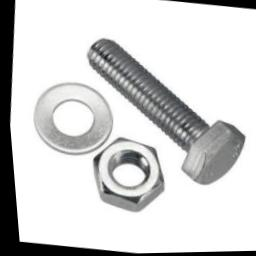Non-corroded Nut: (90, 138, 160, 213)
Non-corroded-Bolts: (85, 38, 243, 187)
